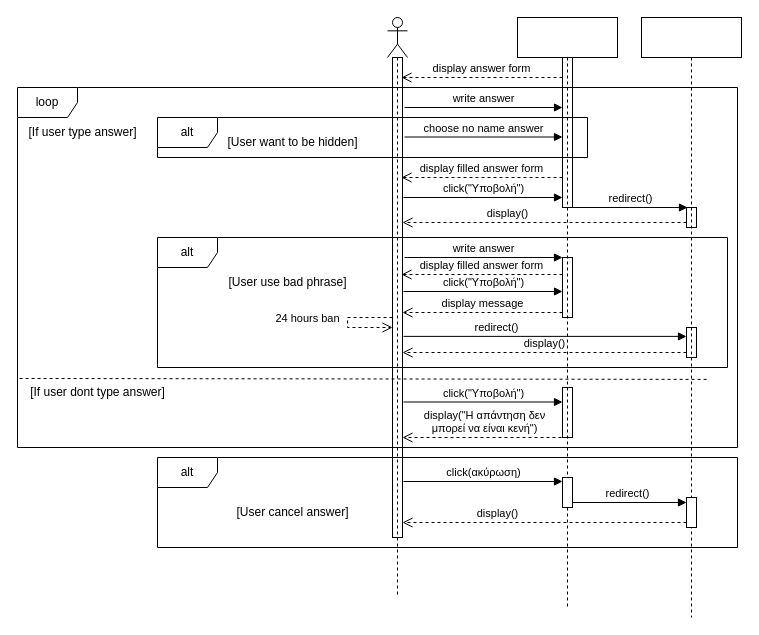
Some shapes in this 759 by 635 pixel diagram are drawn without their labels. Each missing label, with the box of its shape:
:Answer: (516, 16, 618, 608)
:ViewSubject: (640, 16, 742, 618)
